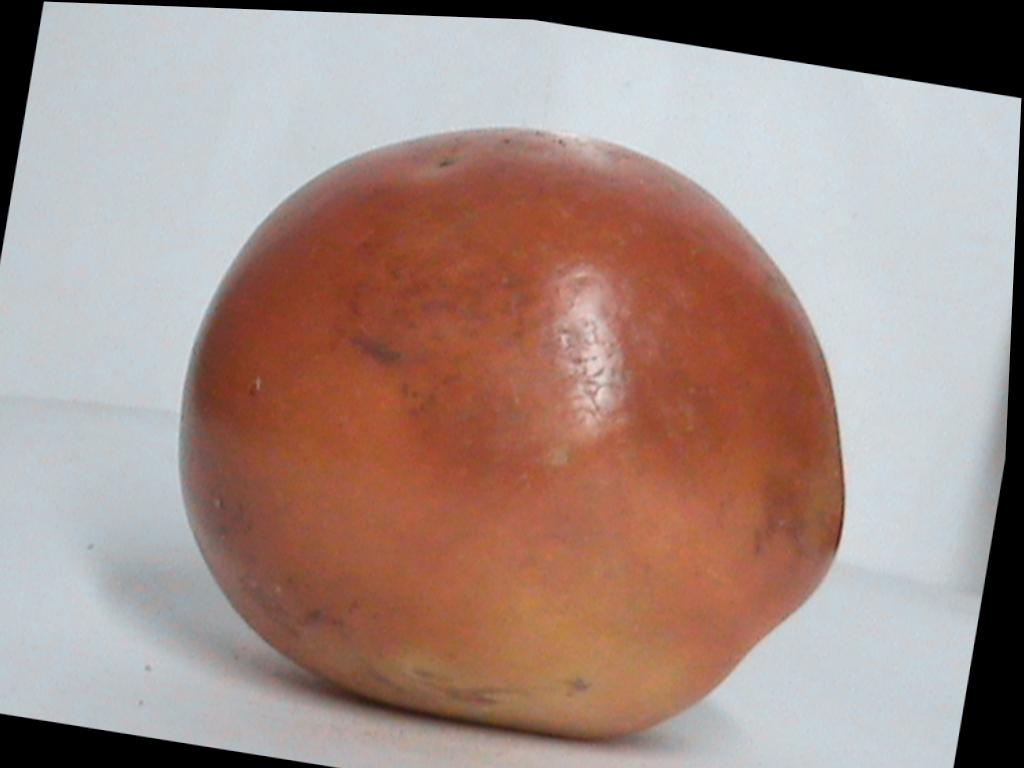bruise_discoloration: (256, 129, 842, 553)
tomato: (180, 130, 843, 735)
